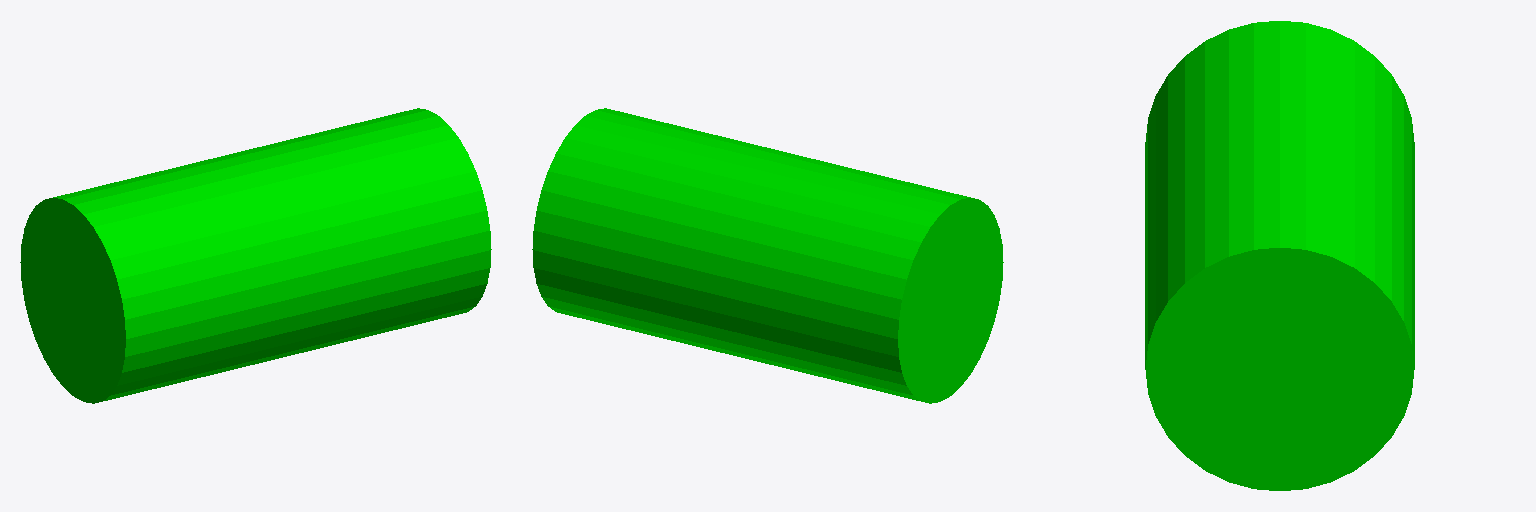
robot.urdf — simple_cylinder:
<?xml version="1.0"?>
<robot name="simple_cylinder">
  <link name="cylinder_base">
    <inertial>
      <origin xyz="0 0 0" rpy="0 0 0" />
      <mass value="0.088" />
      <inertia ixx="0.0001471708" ixy="0" ixz="0" iyy="0.0001471708" iyz="0"
               izz="0.000046475" />
    </inertial>
    <visual>
      <origin xyz="0 0 0" rpy="0 1.57 0" />
      <geometry>
        <cylinder length="0.130" radius="0.0325" />
      </geometry>
      <material name="bright green">
        <color rgba="0.0 0.9 0.0 1" />
      </material>
    </visual>
    <collision>
      <geometry>
        <cylinder length="0.130" radius="0.0325" />
      </geometry>
    </collision>
   </link>
</robot>

--- What the picture shows (computed from the rendered views, not written in the file) ---
The picture shows the robot from 3 angles, left to right: view 1: azimuth 30°, elevation 25°; view 2: azimuth 150°, elevation 25°; view 3: azimuth 270°, elevation 25°; orthographic projection.
Model simple_cylinder with 1 links and 0 joints (none), rooted at cylinder_base, posed all joints at 0.
Visible links, largest first — view 1: cylinder_base; view 2: cylinder_base; view 3: cylinder_base.
Boxes of the visible links, x1=… form: cylinder_base: x1=20, y1=108, x2=491, y2=403; cylinder_base: x1=532, y1=108, x2=1003, y2=403; cylinder_base: x1=1145, y1=21, x2=1414, y2=490.
Size in the robot's own frame: 0.1301 by 0.065 by 0.0651 metres.
Geometry: primitives only (box / cylinder / sphere), no mesh files.